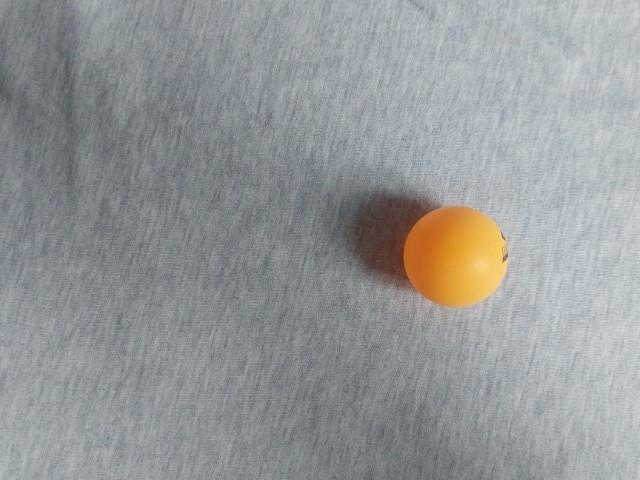oball: (126, 167, 242, 279)
